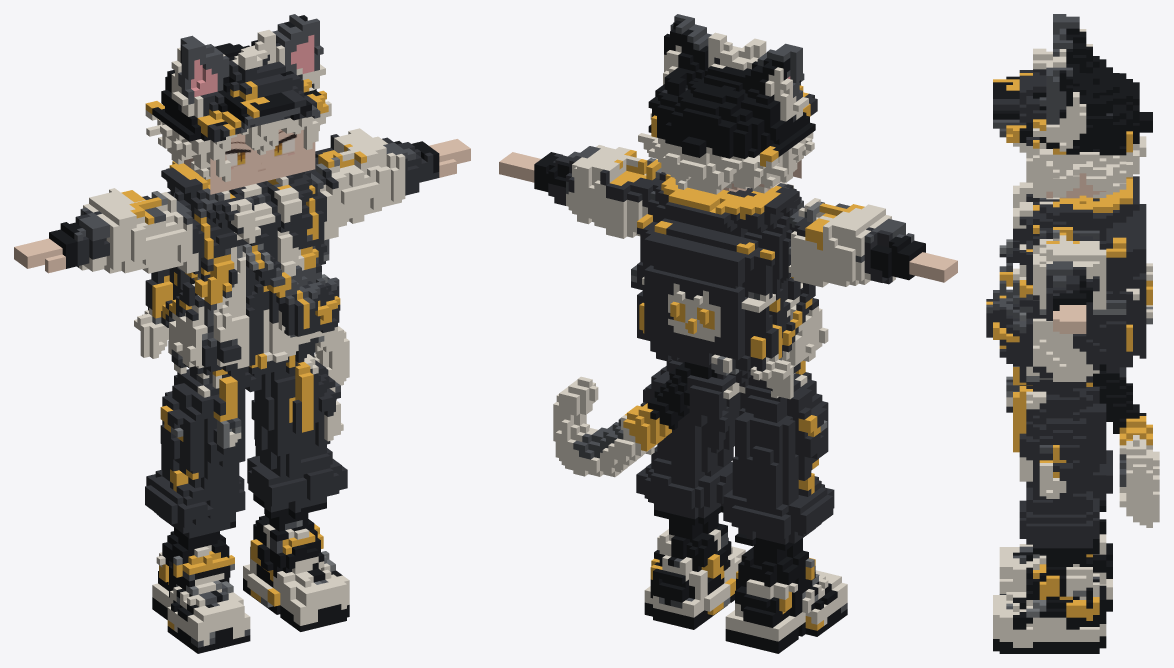
Rendered from SM_WhiteCapTail.fbx.
3 views of the same model, side by side, from view 1: azimuth 30°, elevation 25°; view 2: azimuth 150°, elevation 25°; view 3: azimuth 270°, elevation 25° (orthographic).
Visible parts, largest first — view 1: SM_WhiteCapTail, FaceExpressionCards; view 2: SM_WhiteCapTail; view 3: SM_WhiteCapTail.
Part boxes in pixels (<box>): SM_WhiteCapTail: <box>14,14,470,653</box>; FaceExpressionCards: <box>210,129,315,194</box>; SM_WhiteCapTail: <box>499,14,957,653</box>; SM_WhiteCapTail: <box>986,14,1159,653</box>.
Bounding box in the file's own units: 1.52 × 0.52 × 1.9.
Materials: 10 (1 with a texture image).
